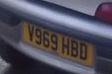6: (42, 31, 50, 48)
9: (50, 34, 58, 51), (35, 28, 42, 45)
B: (71, 39, 79, 58)
D: (79, 41, 88, 60)
H: (61, 37, 70, 55)
Y: (27, 24, 35, 42)
